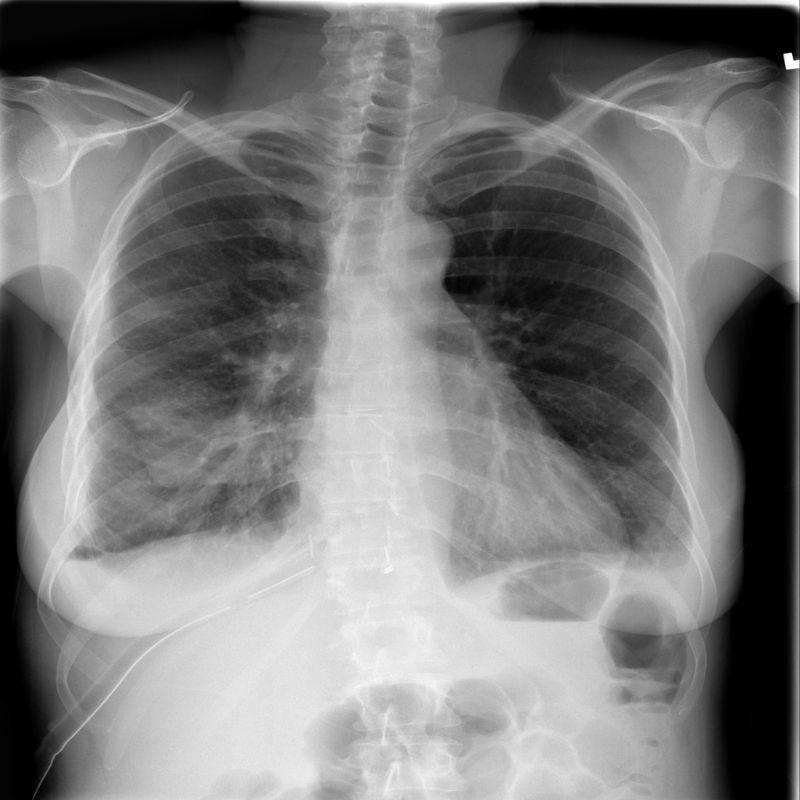Pleural Effusion: (67, 475, 280, 616)
